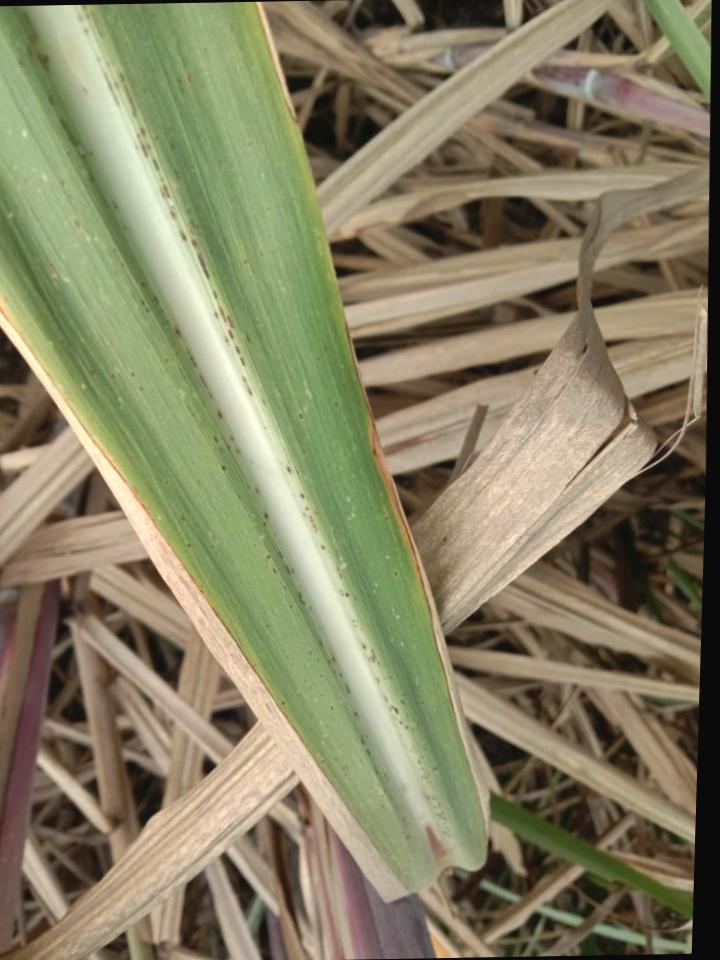RedRot: (425, 823, 450, 866)
Rust: (367, 407, 427, 603), (94, 52, 138, 120), (46, 94, 89, 161), (213, 306, 235, 346), (191, 239, 210, 282), (80, 6, 103, 39), (425, 795, 447, 822), (186, 206, 202, 237), (136, 127, 151, 159), (198, 373, 214, 399), (158, 176, 171, 199), (373, 766, 389, 783), (235, 345, 247, 367), (36, 54, 50, 72), (309, 508, 319, 533), (49, 262, 62, 279), (241, 376, 252, 396), (153, 296, 164, 315), (186, 349, 197, 367), (402, 817, 410, 841), (379, 788, 386, 810), (359, 729, 368, 746), (177, 76, 185, 95), (367, 649, 377, 664), (140, 299, 150, 314), (186, 404, 197, 417), (150, 158, 160, 172), (298, 591, 307, 606), (178, 229, 188, 242), (169, 207, 178, 221), (421, 767, 430, 780), (284, 563, 294, 574), (389, 705, 399, 715), (339, 589, 350, 598), (178, 363, 187, 374), (175, 326, 183, 338), (174, 168, 181, 181), (345, 681, 352, 694), (25, 46, 33, 57), (376, 677, 386, 685), (111, 200, 119, 210), (73, 219, 80, 230), (260, 395, 266, 407), (165, 357, 174, 365), (89, 367, 96, 377), (337, 565, 342, 578), (342, 764, 350, 772), (245, 333, 251, 343), (286, 464, 292, 474), (278, 549, 284, 559), (360, 642, 367, 650), (187, 72, 192, 83), (384, 509, 389, 520), (383, 695, 389, 704), (217, 410, 223, 419), (213, 290, 218, 300), (255, 319, 262, 326), (353, 711, 360, 718), (212, 436, 219, 443), (317, 639, 323, 647), (352, 619, 357, 628), (264, 511, 269, 520), (298, 413, 304, 420), (398, 700, 405, 706), (331, 656, 337, 663), (366, 749, 371, 757), (122, 225, 127, 233), (120, 262, 125, 270), (83, 27, 89, 33), (77, 16, 83, 22), (320, 545, 326, 551), (432, 766, 438, 772), (391, 804, 397, 810), (272, 568, 278, 574), (179, 516, 185, 522), (334, 401, 339, 408), (394, 571, 399, 578), (109, 373, 114, 380), (260, 250, 264, 258), (243, 259, 248, 265), (300, 493, 305, 499), (323, 345, 327, 352), (359, 758, 363, 765), (255, 488, 259, 495), (247, 483, 251, 490), (139, 386, 143, 393), (404, 725, 409, 730), (266, 555, 271, 560), (186, 543, 191, 548), (317, 356, 321, 362), (262, 521, 266, 527), (222, 465, 226, 471), (230, 436, 234, 442), (141, 282, 145, 288), (418, 758, 421, 765), (340, 671, 343, 678), (329, 670, 336, 673), (305, 507, 310, 511), (399, 720, 403, 725), (227, 445, 231, 450), (237, 494, 241, 499), (416, 702, 419, 708), (113, 247, 116, 253), (411, 728, 415, 732), (289, 605, 293, 609), (252, 544, 256, 548), (211, 545, 215, 549), (307, 496, 310, 501), (303, 512, 306, 517), (421, 700, 424, 705), (421, 755, 424, 760), (328, 660, 331, 665), (317, 657, 320, 662), (308, 651, 311, 656), (237, 448, 240, 453), (131, 373, 134, 378), (303, 450, 306, 454), (406, 714, 409, 718), (266, 624, 269, 628), (330, 706, 333, 709), (403, 693, 405, 697), (417, 722, 419, 726), (424, 748, 426, 752), (320, 675, 322, 677)
